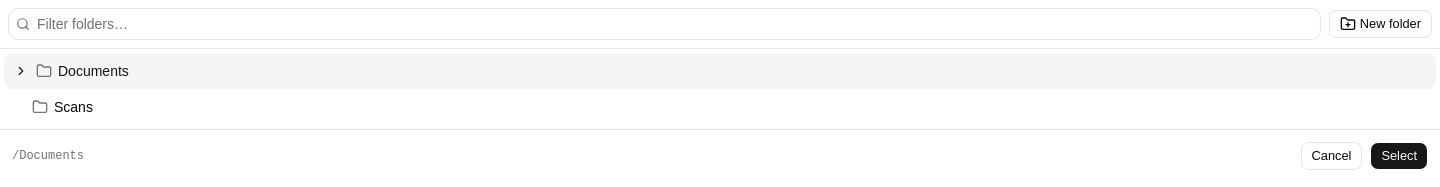
Test: FolderPickerBody › clicking a row updates the footer selection without committing
Click the list item "Scans" at (62, 107), box [32, 99, 93, 115]
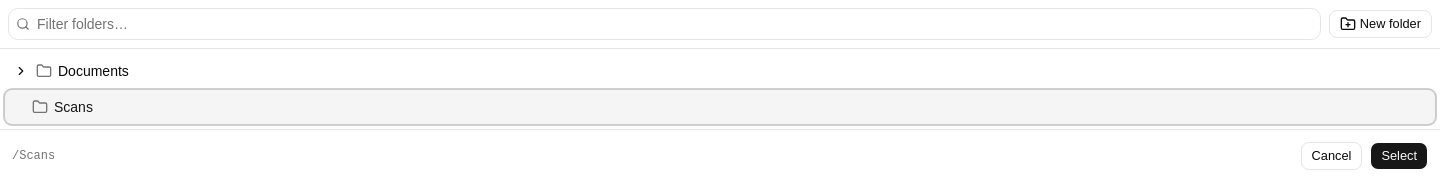
Check: the text titled "/Scans" is shown, box [12, 149, 55, 163]
